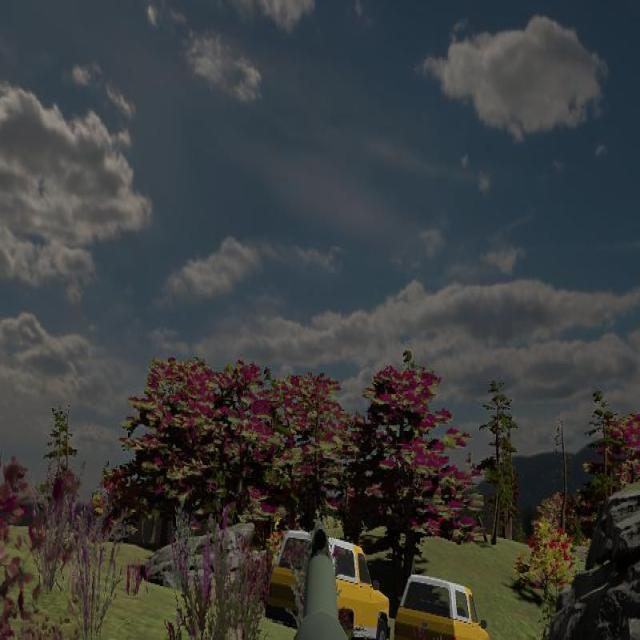car: (265, 528, 392, 637), (393, 574, 493, 640)
